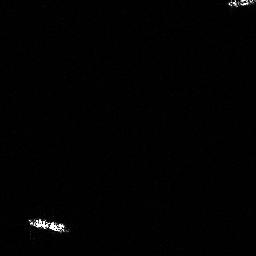ship: (24, 216, 74, 237), (223, 1, 256, 10)
